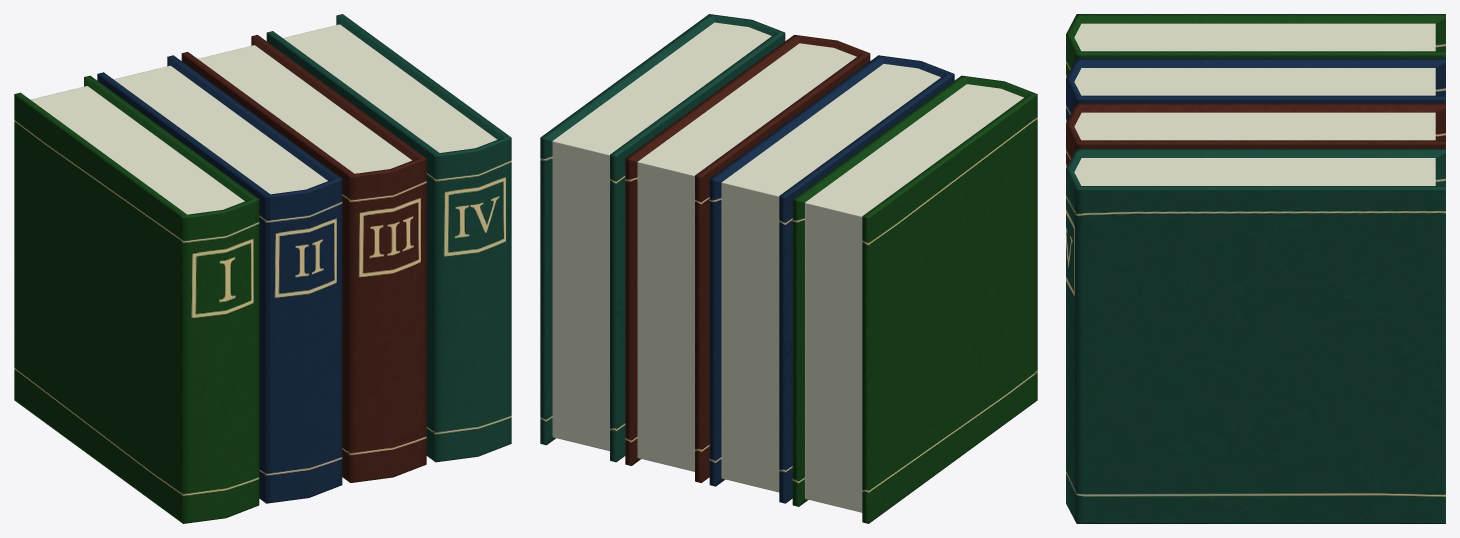
Rendered from book.glb.
3 views of the same model, side by side, from view 1: azimuth 30°, elevation 25°; view 2: azimuth 150°, elevation 25°; view 3: azimuth 270°, elevation 25° (orthographic). The views are drawn at different scales.
Visible parts, largest first — view 1: book_1, book_4, book_3, book_2; view 2: book_1, book_4, book_3, book_2; view 3: book_4, book_3, book_2, book_1.
Boxes of the visible parts, x1,y1,x2,y2 form: book_1: (14,75,259,523); book_4: (266,14,511,462); book_3: (181,35,426,482); book_2: (97,55,342,503); book_1: (792,75,1037,523); book_4: (540,14,785,462); book_3: (625,35,870,482); book_2: (709,55,954,503); book_4: (1066,148,1445,523); book_3: (1066,103,1445,168); book_2: (1066,58,1445,122); book_1: (1066,14,1445,77).
Bounding box in the file's own units: 0.2922 × 0.2602 × 0.2677.
4 materials, 4 textured.
